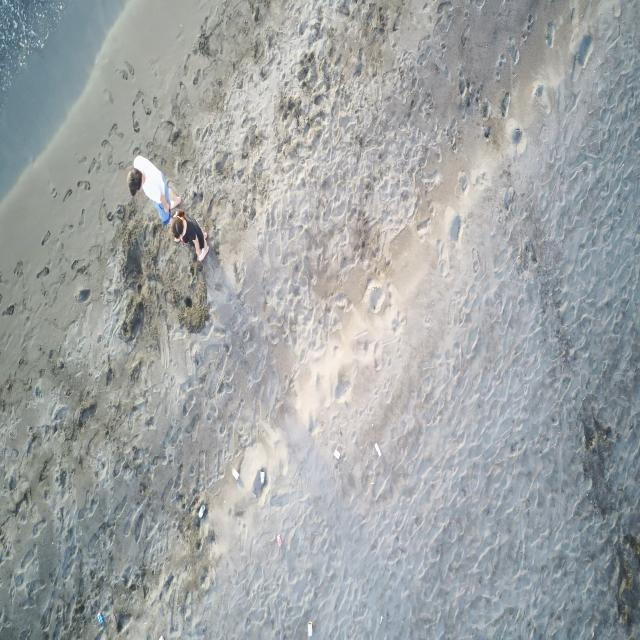Garbage: (252, 467, 266, 495), (332, 447, 340, 459), (96, 613, 103, 626), (373, 442, 380, 455), (307, 620, 312, 636), (198, 504, 204, 517), (233, 467, 239, 480), (276, 533, 281, 546), (260, 468, 264, 484), (379, 615, 383, 623), (159, 635, 163, 639)
